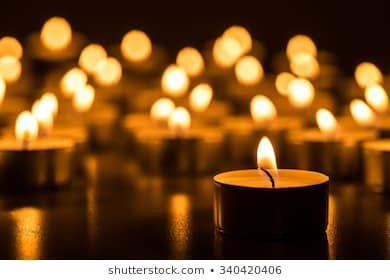Fire: (41, 16, 71, 49), (175, 46, 205, 77), (122, 30, 151, 61), (345, 96, 374, 126), (211, 36, 240, 66), (255, 136, 277, 173), (248, 94, 277, 122), (160, 65, 188, 94), (354, 59, 382, 87), (79, 44, 106, 73), (238, 56, 264, 86), (290, 51, 320, 77), (62, 69, 88, 97), (14, 108, 37, 139), (72, 84, 95, 113), (291, 79, 314, 107), (188, 87, 213, 112), (314, 109, 339, 132), (1, 36, 24, 58), (152, 98, 174, 117)
